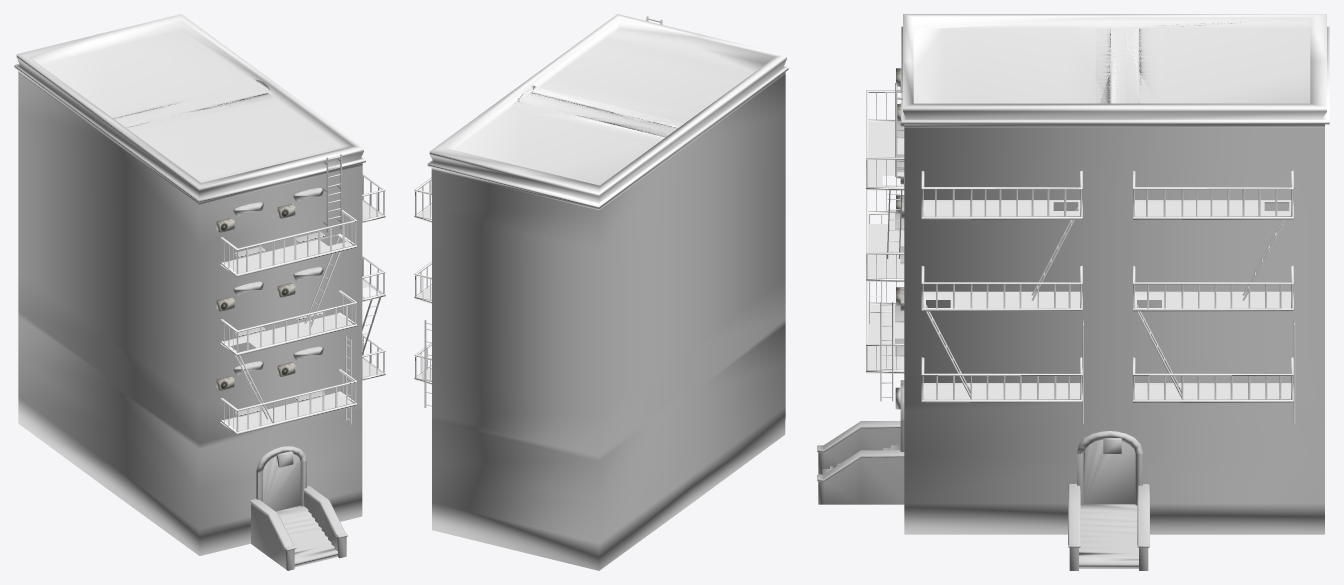
Rendered from house9.fbx.
The picture shows the model from 3 angles, left to right: view 1: azimuth 30°, elevation 25°; view 2: azimuth 150°, elevation 25°; view 3: azimuth 270°, elevation 25°; orthographic projection. The views are drawn at different scales.
Visible parts, largest first — view 1: climate; view 2: climate; view 3: climate.
Boxes of the visible parts, <box> form: climate: <box>14,14,385,570</box>; climate: <box>414,14,788,570</box>; climate: <box>817,14,1329,570</box>.
Size of the model in its own units: 681 by 1050 by 1135.
